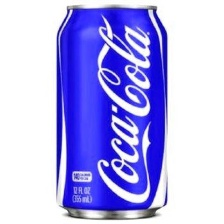can: (52, 0, 170, 220)
